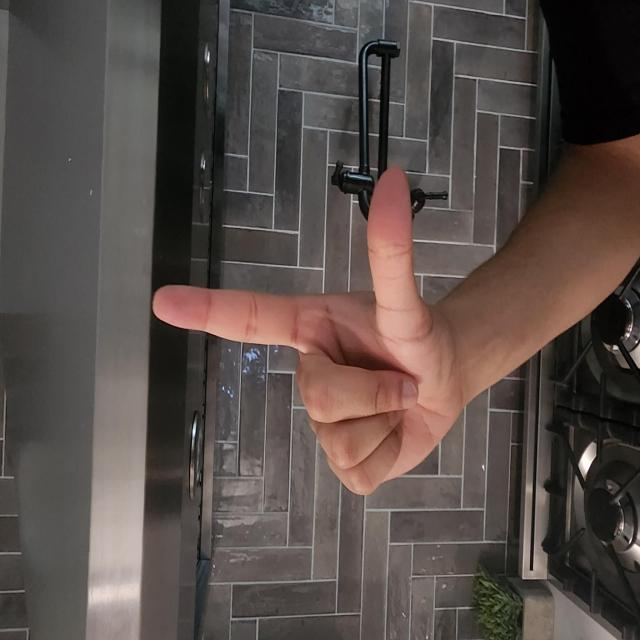L: (83, 172, 359, 637)
